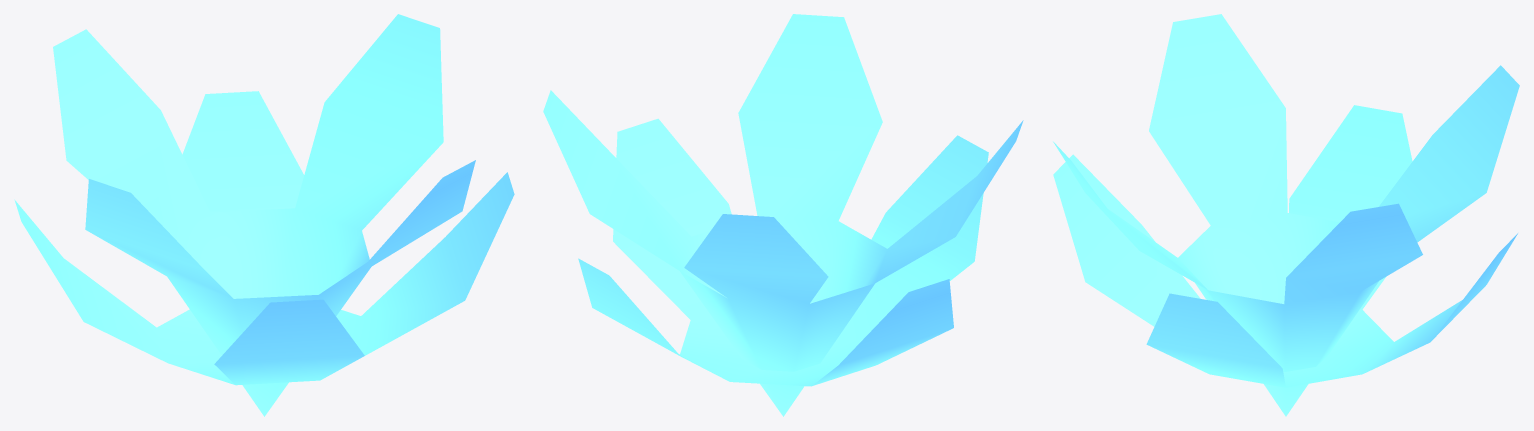
Rendered from lotus001.glb.
3 renders of one model, left to right at view 1: azimuth 30°, elevation 25°; view 2: azimuth 150°, elevation 25°; view 3: azimuth 270°, elevation 25°, orthographic. The views are drawn at different scales.
Visible parts, largest first — view 1: Sphere; view 2: Sphere; view 3: Sphere.
Part boxes in pixels (x1,y1,x2,y2): Sphere: (14, 14, 514, 416); Sphere: (543, 14, 1023, 416); Sphere: (1053, 14, 1519, 416).
Size of the model in its own units: 0.616 by 0.4419 by 0.616.
